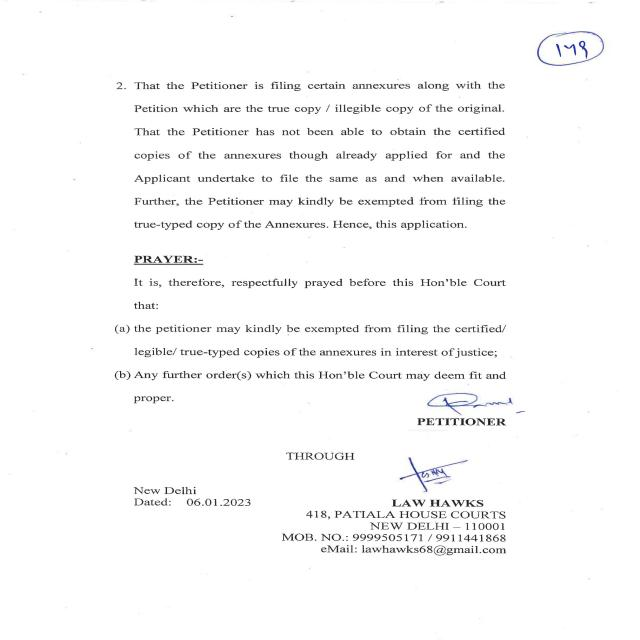page-number: (501, 0, 640, 80)
